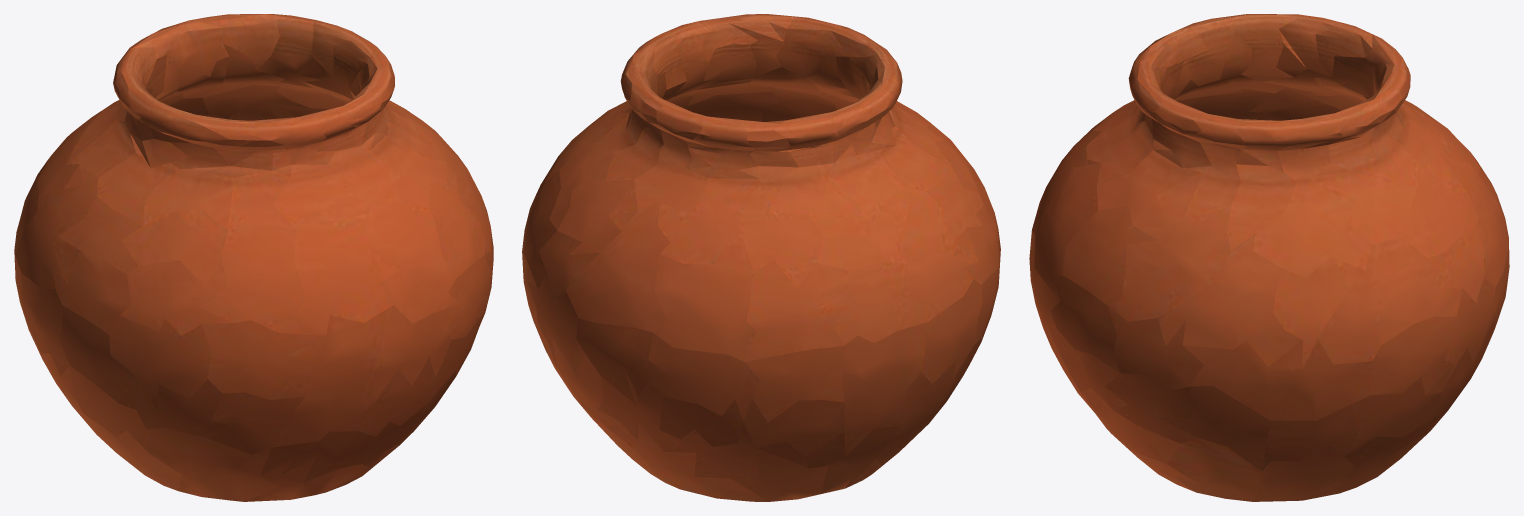
Rendered from clay-pot.glb.
The picture shows the model from 3 angles, left to right: view 1: azimuth 30°, elevation 25°; view 2: azimuth 150°, elevation 25°; view 3: azimuth 270°, elevation 25°; orthographic projection.
Parts seen in each view (by area): view 1: output_unwrapped; view 2: output_unwrapped; view 3: output_unwrapped.
Part boxes in pixels (x1,y1,x2,y2): output_unwrapped: (14, 14, 493, 501); output_unwrapped: (522, 14, 1000, 501); output_unwrapped: (1029, 14, 1509, 501).
Size of the model in its own units: 0.6264 by 0.55 by 0.6272.
Materials: 1 (1 with a texture image).
